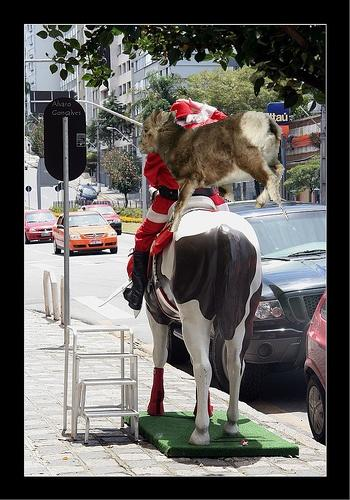tampered: (140, 111, 289, 232)
